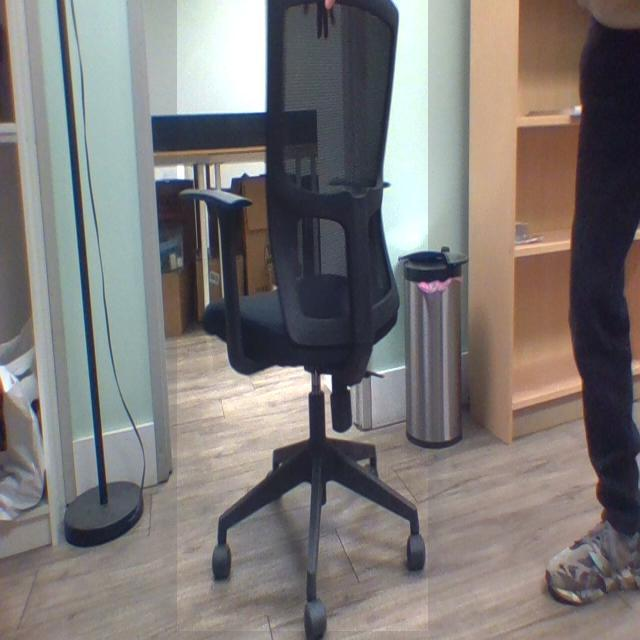chair: (177, 0, 429, 632)
